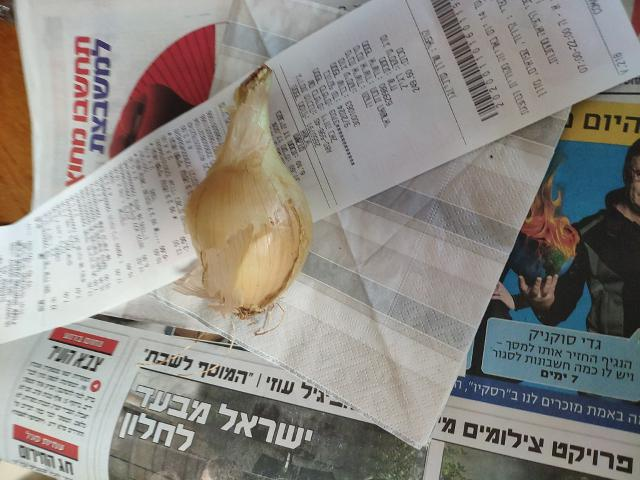onion: (188, 131, 320, 327)
